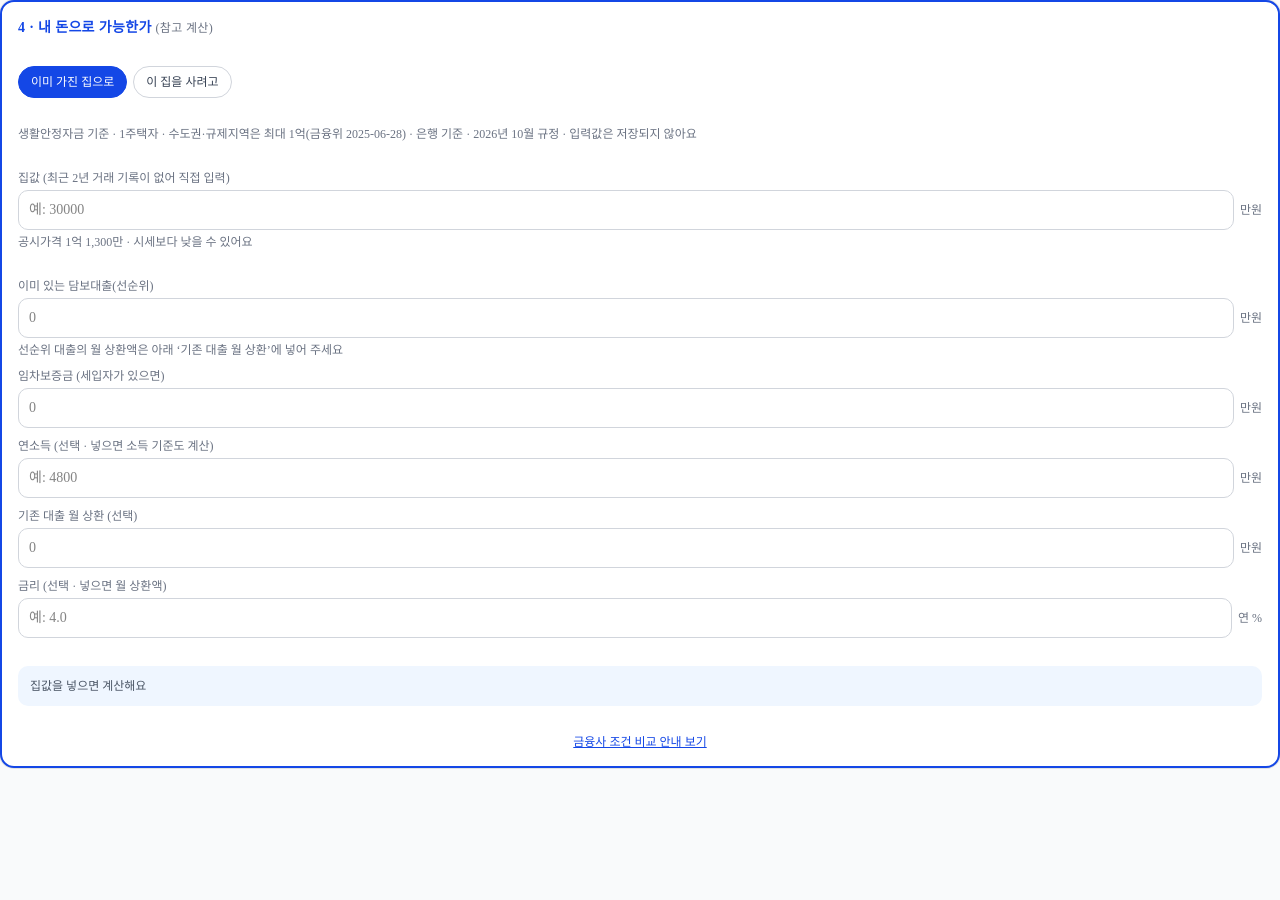
Scenario: LoanEstimateSection — 집값 단계(결정 12) › 2년도 없으면 직접 입력 — 카드는 보이고 공시가격은 참고 글자만(값을 채우지 않는다)
Check: the text "공시가격 1억 1,300만 · 시세보다 낮을 수 있어요" is shown, box [18,235,253,249]
Type "20000" into the field labelled "집값 (최근 2년 거래 기록이 없어 직접 입력)".
click(626, 210); type("20000")  # box [18,190,1234,230]
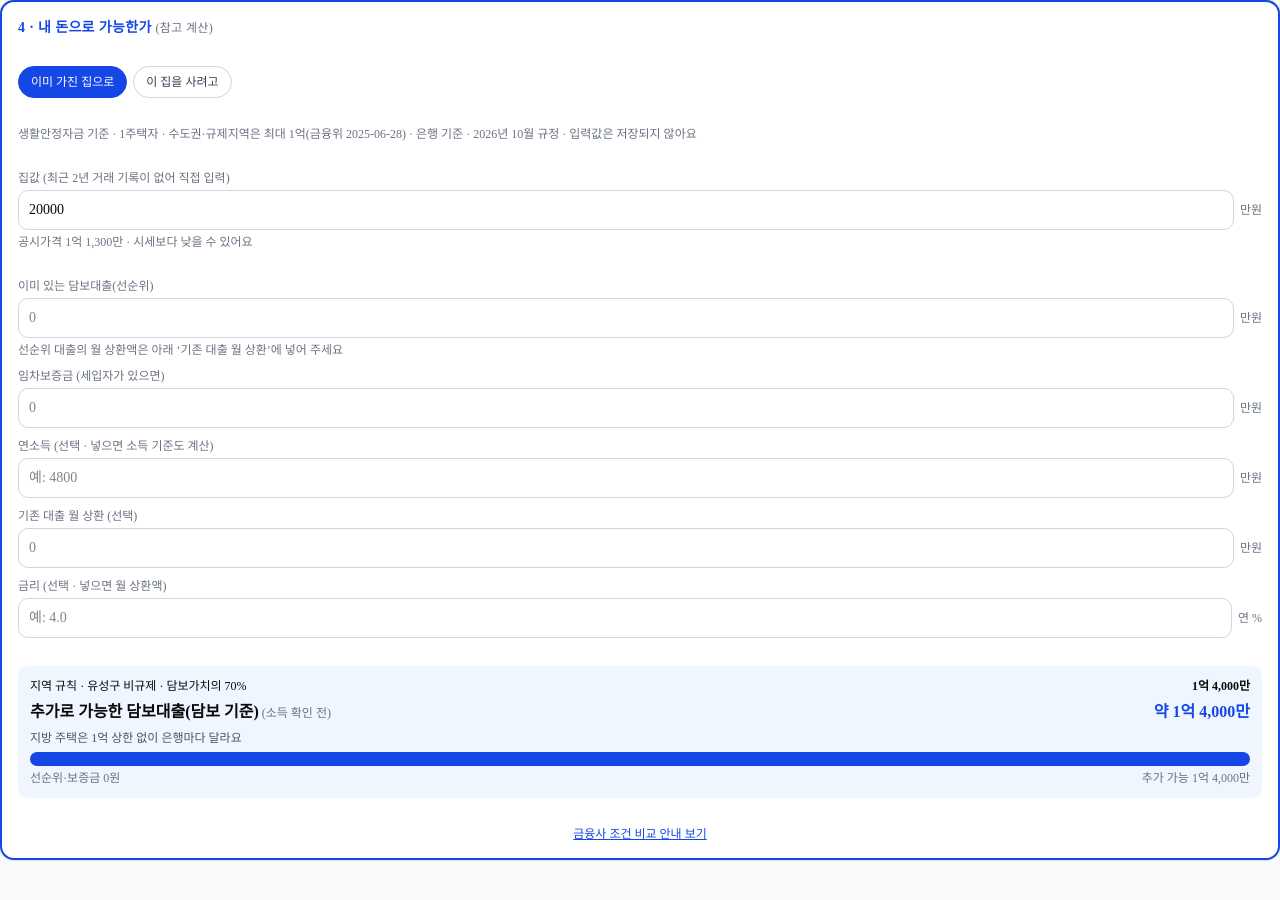
Check: the element with test id "consumer-loan-result" shows "1억 4,000만", box [1192,679,1250,693]
